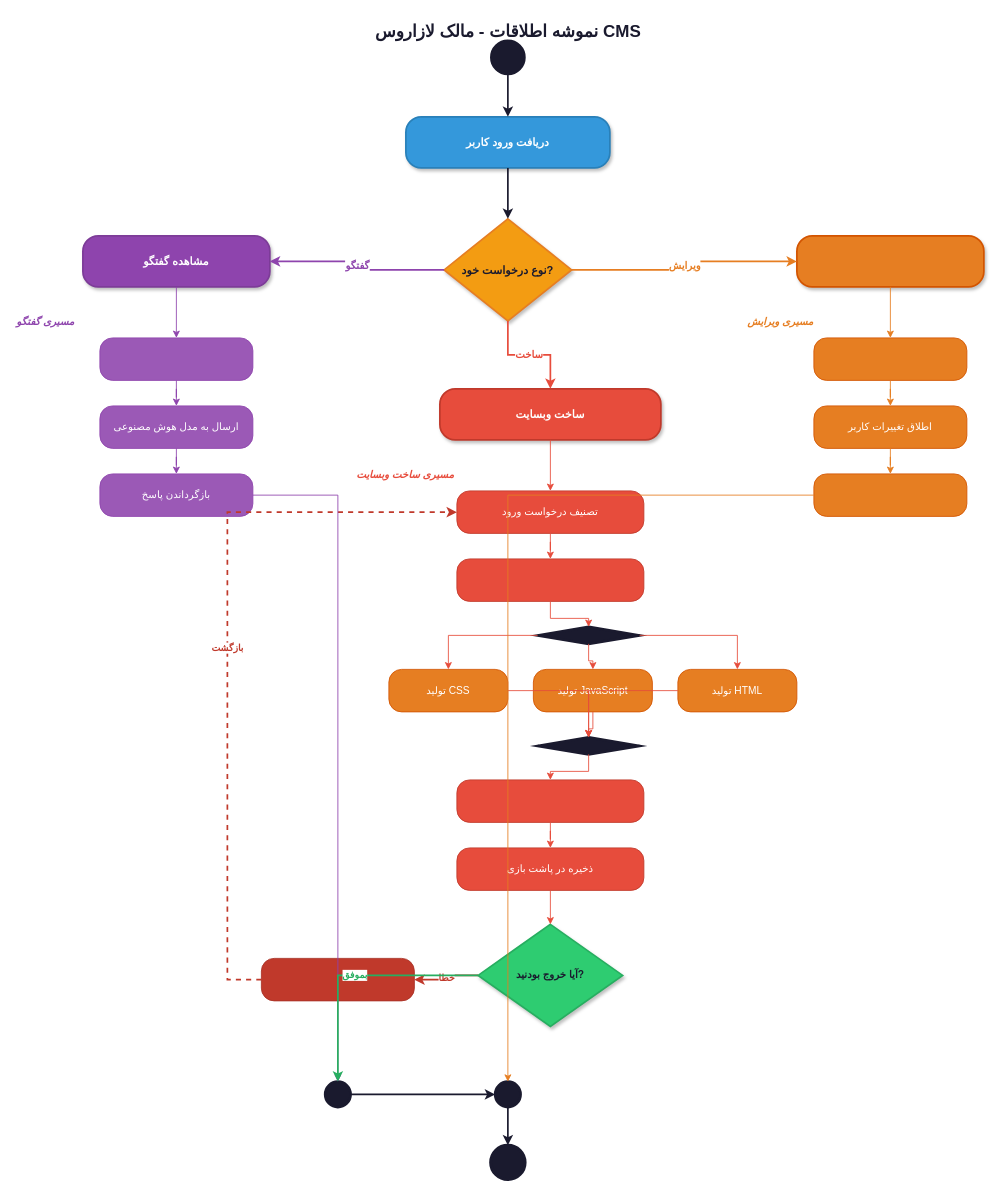
Image size: 1004x1195. Some labels were removed from this diagram. Here are the shapes that lost their labels. From the top down, the centre of each, then its label:
At (890,262): "ویرایش وبسایت".
At (176,358): "پردازش کتاب کاربر".
At (890,358): "بارگذاری قبلی موجود".
At (890,494): "بازساختن وبسایت".
At (550,579): "تحلیل به جزآبه جاری".
At (550,800): "ارزش درستی خروج".
At (337,979): "نمایش خطا به کاربر".
